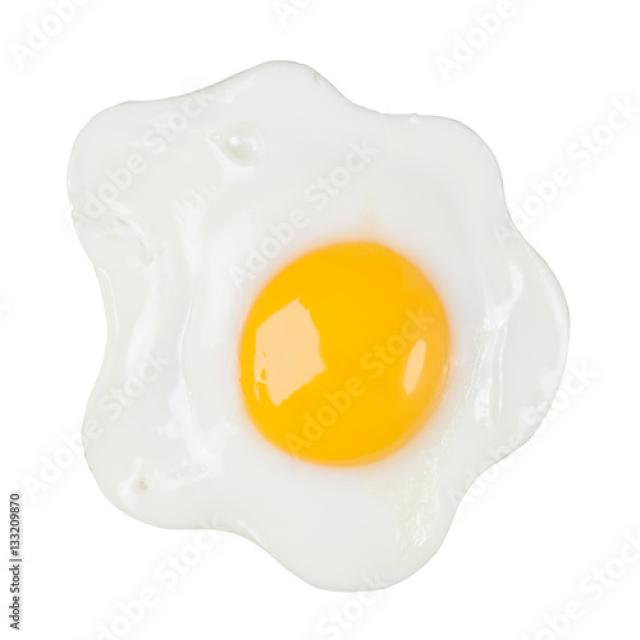Egg: (69, 62, 569, 590)
